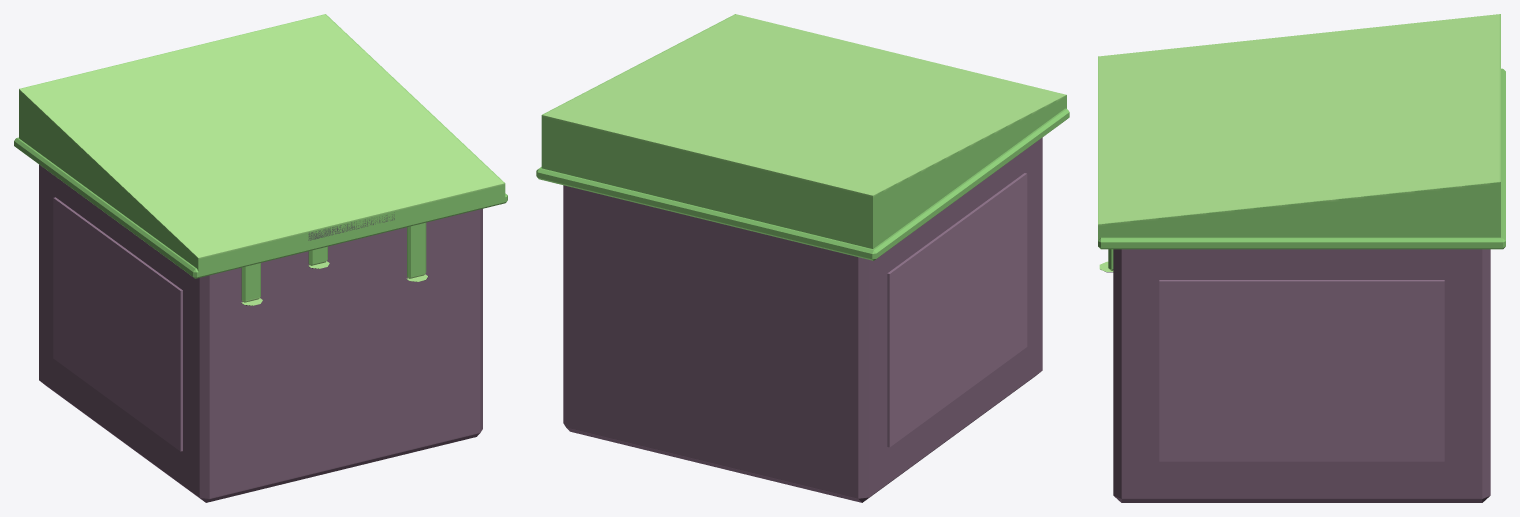
File: Trash.fbx
3 views of the same model, side by side, from view 1: azimuth 30°, elevation 25°; view 2: azimuth 150°, elevation 25°; view 3: azimuth 270°, elevation 25° (orthographic). The views are drawn at different scales.
Visible parts, largest first — view 1: Trash; view 2: Trash; view 3: Trash.
Boxes of the visible parts, x1,y1,x2,y2 form: Trash: [14, 14, 507, 502]; Trash: [536, 14, 1069, 502]; Trash: [1098, 14, 1505, 502].
Size of the model in its own units: 400 by 358 by 400.
Materials: 1 (1 with a texture image).
